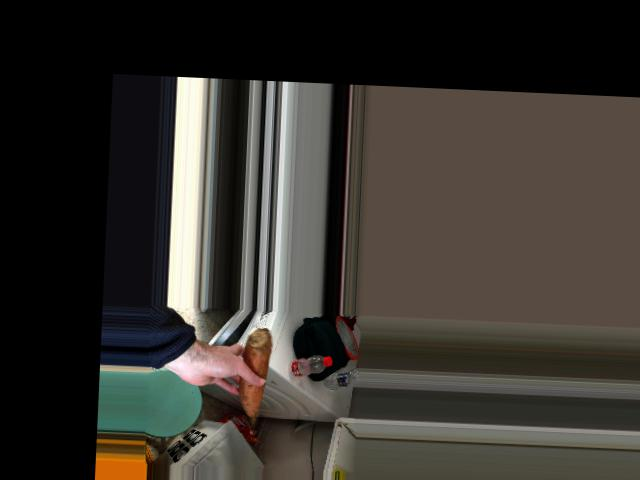sweet_potato: (238, 340, 263, 416)
